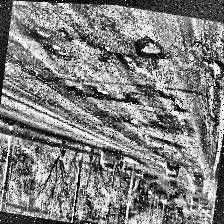pothole: (62, 79, 142, 105), (23, 26, 72, 58), (130, 32, 168, 62), (122, 113, 170, 130), (158, 90, 190, 113), (111, 50, 132, 66)
